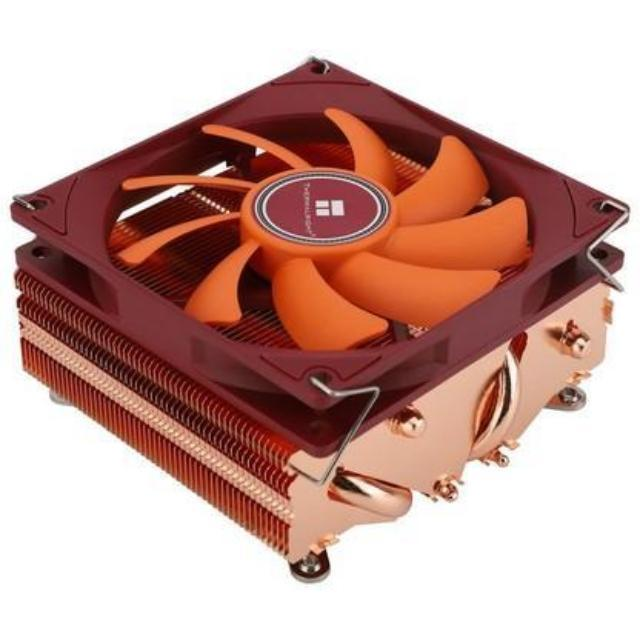CPU_Fan: (4, 59, 636, 584)
